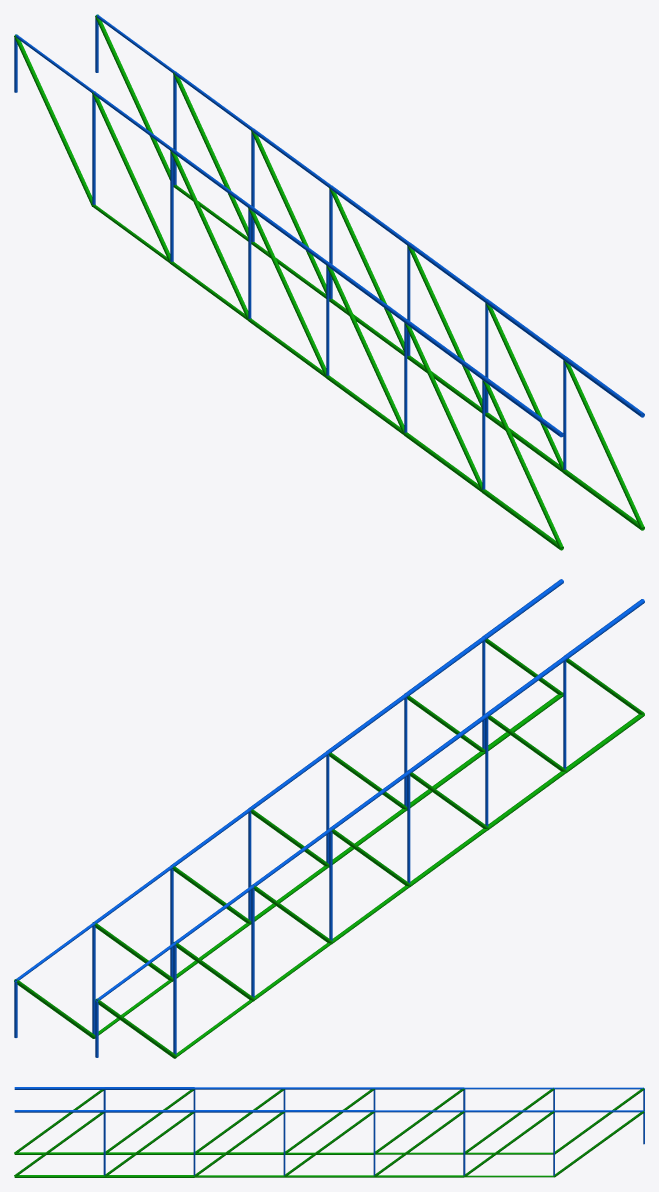
Rendered from 02_01_01_Fachwerk_TT_Biegung.gltf.
3 views of the same model, one above another, from view 1: azimuth 30°, elevation 25°; view 2: azimuth 150°, elevation 25°; view 3: azimuth 270°, elevation 25° (orthographic). The views are drawn at different scales.
Parts seen in each view (by area): view 1: Druck Pipes, Zug - Pipes; view 2: Druck Pipes, Zug - Pipes; view 3: Druck Pipes, Zug - Pipes.
Part boxes in pixels (left/top/right/bottom): Druck Pipes: left=14, top=14, right=644, bottom=550; Zug - Pipes: left=14, top=14, right=644, bottom=489; Druck Pipes: left=14, top=639, right=644, bottom=1058; Zug - Pipes: left=14, top=579, right=644, bottom=1057; Druck Pipes: left=14, top=1088, right=644, bottom=1177; Zug - Pipes: left=14, top=1087, right=644, bottom=1175.
Size of the model in its own units: 63.19 by 83.2 by 702.
